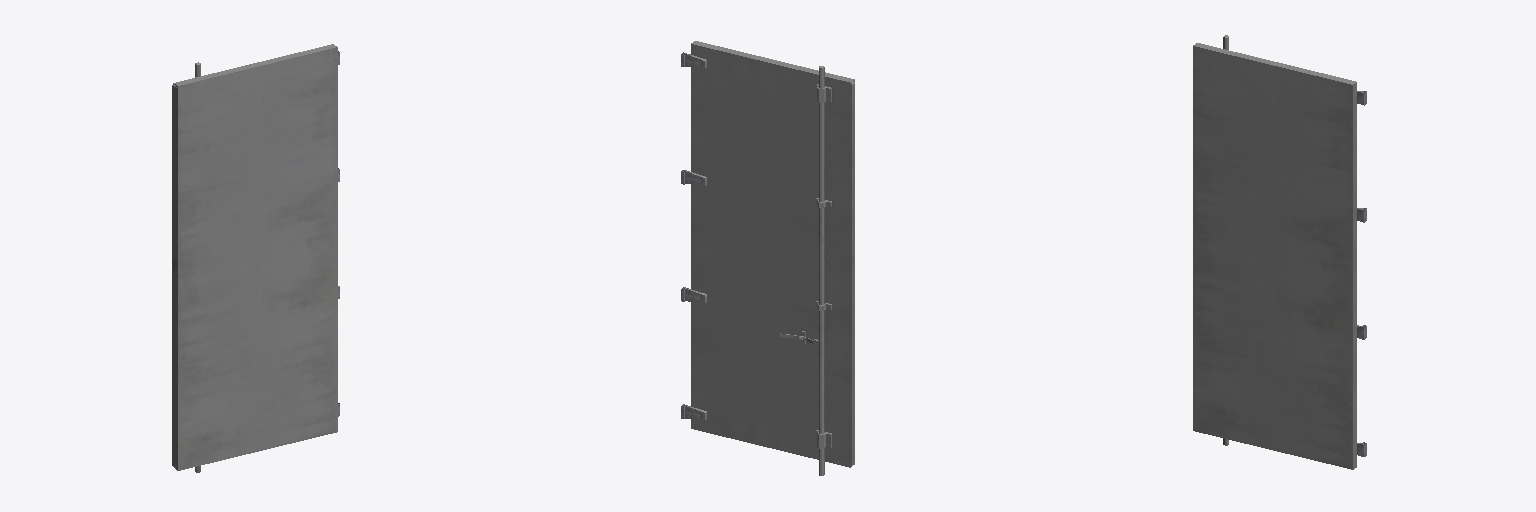
3 renders of one model, left to right at view 1: azimuth 30°, elevation 25°; view 2: azimuth 150°, elevation 25°; view 3: azimuth 330°, elevation 25°, orthographic.
Parts seen in each view (by area): view 1: door_RL_04; view 2: door_RL_04; view 3: door_RL_04.
Boxes of the visible parts, x1=… form: door_RL_04: x1=172, y1=44, x2=339, y2=472; door_RL_04: x1=681, y1=41, x2=854, y2=475; door_RL_04: x1=1193, y1=35, x2=1366, y2=469.
Bounding box in the file's own units: 1.02 × 2.39 × 0.0949.
1 materials, 1 textured.